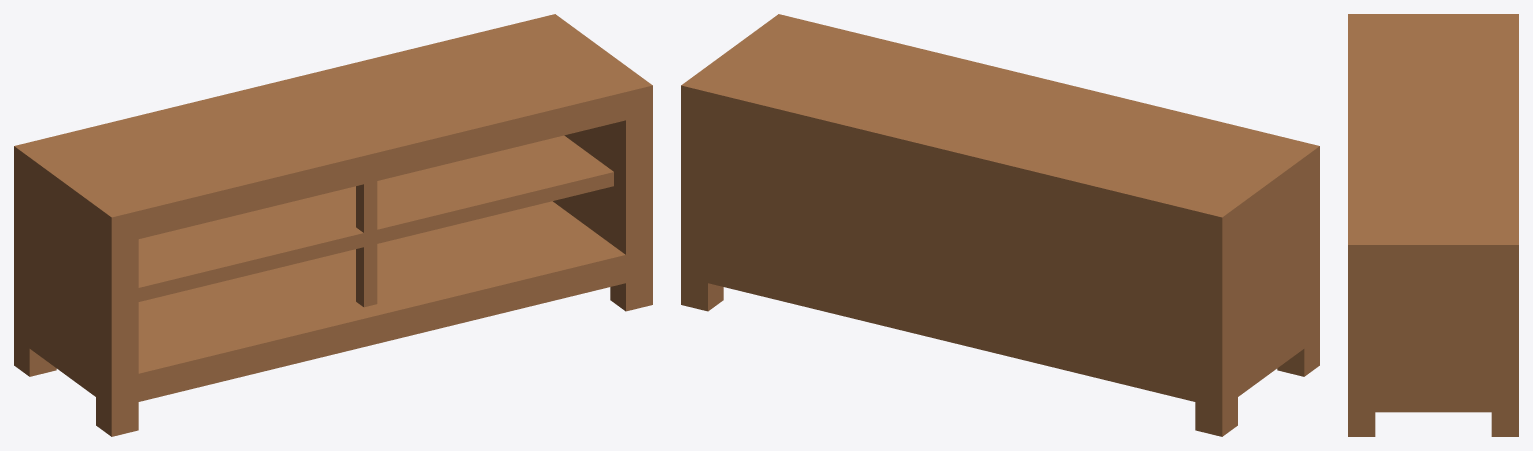
The model's file is cabinetTelevision.glb.
3 renders of one model, left to right at view 1: azimuth 30°, elevation 25°; view 2: azimuth 150°, elevation 25°; view 3: azimuth 270°, elevation 25°, orthographic. The views are drawn at different scales.
Parts seen in each view (by area): view 1: cabinetTelevision(Clone); view 2: cabinetTelevision(Clone); view 3: cabinetTelevision(Clone).
Boxes of the visible parts, x1,y1,x2,y2 form: cabinetTelevision(Clone): [14, 14, 652, 436]; cabinetTelevision(Clone): [681, 14, 1319, 436]; cabinetTelevision(Clone): [1348, 14, 1518, 436].
Size of the model in its own units: 1.6 by 0.62 by 0.5.
